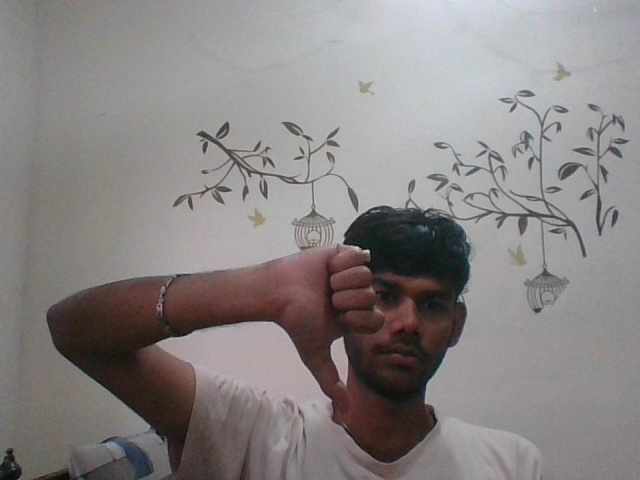No: (260, 242, 399, 394)
